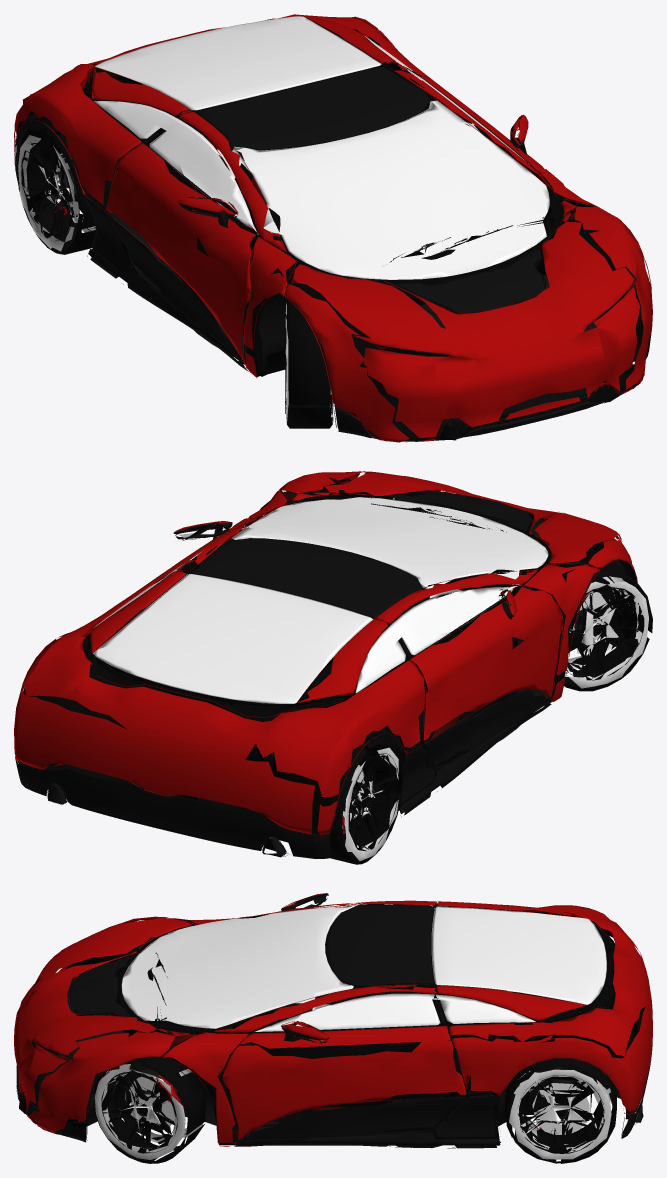
The model's file is U_CarConcept_LOD1.obj.
The picture shows the model from 3 angles, top to bottom: view 1: azimuth 30°, elevation 25°; view 2: azimuth 150°, elevation 25°; view 3: azimuth 270°, elevation 25°; orthographic projection. The views are drawn at different scales.
Visible parts, largest first — view 1: U_CarConcept_Body_m10, U_CarConcept_Body_m1, U_CarConcept_Body_m9, U_CarConcept_Body_m2, U_CarConcept_Body_m0, U_CarConcept_Wheel_FR_Tyre_m18, U_CarConcept_Wheel_RR_m20, U_CarConcept_Wheel_RR_Tyre_m18, U_CarConcept_Body_m21, U_CarConcept_Body_m3, U_CarConcept_Wheel_RR_Tyre_m17; view 2: U_CarConcept_Body_m10, U_CarConcept_Body_m1, U_CarConcept_Body_m9, U_CarConcept_Body_m2, U_CarConcept_Wheel_FR_m20, U_CarConcept_Wheel_RR_m20, U_CarConcept_Wheel_RR_Tyre_m18, U_CarConcept_Body_m0, U_CarConcept_Wheel_FR_Tyre_m17, U_CarConcept_Body_m21, U_CarConcept_Body_m3, U_CarConcept_Wheel_FR_Tyre_m18 (+2 smaller); view 3: U_CarConcept_Body_m10, U_CarConcept_Body_m1, U_CarConcept_Body_m9, U_CarConcept_Body_m2, U_CarConcept_Body_m0, U_CarConcept_Wheel_RL_m20, U_CarConcept_Body_m3, U_CarConcept_Wheel_FL_m20, U_CarConcept_Wheel_FL_Tyre_m18, U_CarConcept_Wheel_RL_Tyre_m17, U_CarConcept_Wheel_FL_Tyre_m17, U_CarConcept_Wheel_RL_Tyre_m18 (+5 smaller).
Boxes of the visible parts, x1,y1,x2,y2 form: U_CarConcept_Body_m10: (14, 14, 652, 442); U_CarConcept_Body_m1: (94, 16, 549, 279); U_CarConcept_Body_m9: (15, 65, 651, 438); U_CarConcept_Body_m2: (15, 18, 651, 441); U_CarConcept_Body_m0: (16, 62, 640, 441); U_CarConcept_Wheel_FR_Tyre_m18: (287, 299, 332, 428); U_CarConcept_Wheel_RR_m20: (21, 140, 95, 240); U_CarConcept_Wheel_RR_Tyre_m18: (17, 123, 95, 254); U_CarConcept_Body_m21: (86, 172, 599, 376); U_CarConcept_Body_m3: (15, 24, 541, 321); U_CarConcept_Wheel_RR_Tyre_m17: (18, 135, 95, 251); U_CarConcept_Body_m10: (14, 471, 637, 835); U_CarConcept_Body_m1: (93, 497, 548, 703); U_CarConcept_Body_m9: (15, 491, 633, 858); U_CarConcept_Body_m2: (18, 477, 637, 856); U_CarConcept_Wheel_FR_m20: (566, 576, 644, 680); U_CarConcept_Wheel_RR_m20: (342, 753, 399, 851); U_CarConcept_Wheel_RR_Tyre_m18: (327, 734, 402, 864); U_CarConcept_Body_m0: (18, 491, 627, 857); U_CarConcept_Wheel_FR_Tyre_m17: (564, 576, 648, 688); U_CarConcept_Body_m21: (139, 490, 595, 813); U_CarConcept_Body_m3: (23, 506, 529, 851); U_CarConcept_Wheel_FR_Tyre_m18: (564, 562, 652, 691); U_CarConcept_Body_m10: (14, 893, 652, 1146); U_CarConcept_Body_m1: (121, 902, 606, 1031); U_CarConcept_Body_m9: (16, 893, 652, 1148); U_CarConcept_Body_m2: (17, 903, 645, 1144); U_CarConcept_Body_m0: (17, 937, 643, 1145); U_CarConcept_Wheel_RL_m20: (517, 1067, 604, 1153); U_CarConcept_Body_m3: (117, 907, 640, 1120); U_CarConcept_Wheel_FL_m20: (101, 1060, 186, 1153); U_CarConcept_Wheel_FL_Tyre_m18: (93, 1055, 205, 1163); U_CarConcept_Wheel_RL_Tyre_m17: (509, 1069, 611, 1159); U_CarConcept_Wheel_FL_Tyre_m17: (94, 1064, 203, 1159); U_CarConcept_Wheel_RL_Tyre_m18: (505, 1058, 616, 1163).
Size of the model in its own units: 2.54 by 1.15 by 4.35.
